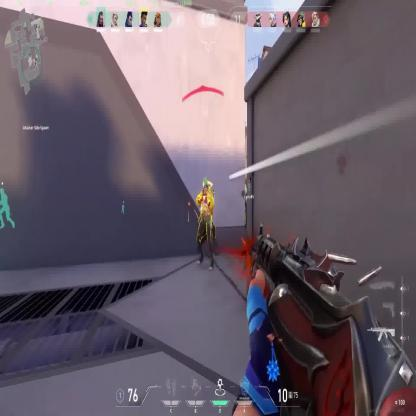enemy: (196, 176, 216, 271)
enemy_head: (203, 177, 209, 196)
